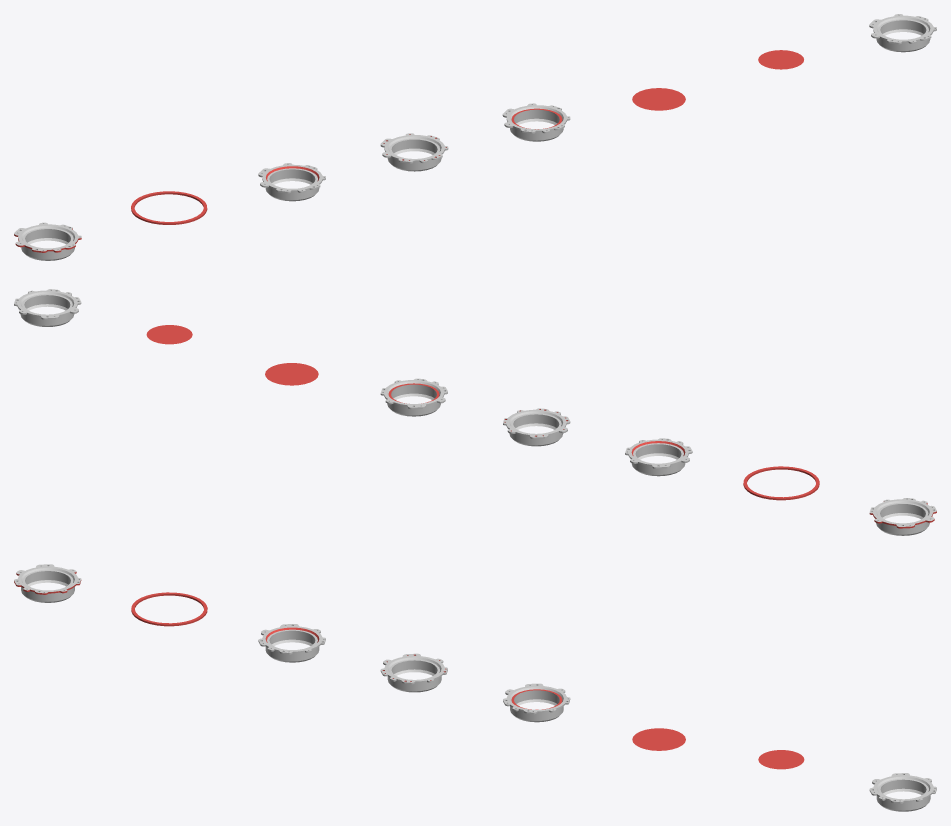
Rendered from Bearing Liner.fbx.
3 renders of one model, top to bottom at view 1: azimuth 30°, elevation 25°; view 2: azimuth 150°, elevation 25°; view 3: azimuth 330°, elevation 25°, orthographic.
Visible parts, largest first — view 1: 13.D&I, 13.E, 13, 13.C, 13.H, 13.B, 13.A, 13.F&G; view 2: 13.C, 13.D&I, 13.H, 13.E, 13, 13.B, 13.A, 13.F&G; view 3: 13.D&I, 13.C, 13, 13.H, 13.E, 13.B, 13.A, 13.F&G.
Boxes of the visible parts, x1,y1,x2,y2 form: 13.D&I: [380, 133, 448, 171]; 13.E: [258, 163, 325, 201]; 13: [869, 14, 936, 52]; 13.C: [502, 103, 570, 141]; 13.H: [14, 222, 81, 260]; 13.B: [632, 88, 685, 110]; 13.A: [758, 50, 803, 69]; 13.F&G: [131, 191, 207, 224]; 13.C: [380, 378, 447, 416]; 13.D&I: [503, 408, 570, 446]; 13.H: [869, 498, 936, 535]; 13.E: [625, 438, 692, 476]; 13: [14, 289, 81, 326]; 13.B: [265, 363, 318, 385]; 13.A: [146, 325, 192, 344]; 13.F&G: [743, 466, 819, 500]; 13.D&I: [380, 653, 447, 692]; 13.C: [503, 683, 570, 722]; 13: [869, 773, 936, 811]; 13.H: [14, 564, 81, 602]; 13.E: [258, 624, 325, 662]; 13.B: [632, 728, 685, 750]; 13.A: [758, 750, 804, 769]; 13.F&G: [131, 592, 207, 626].
Bounding box in the file's own units: 748 × 10.43 × 54.1.
